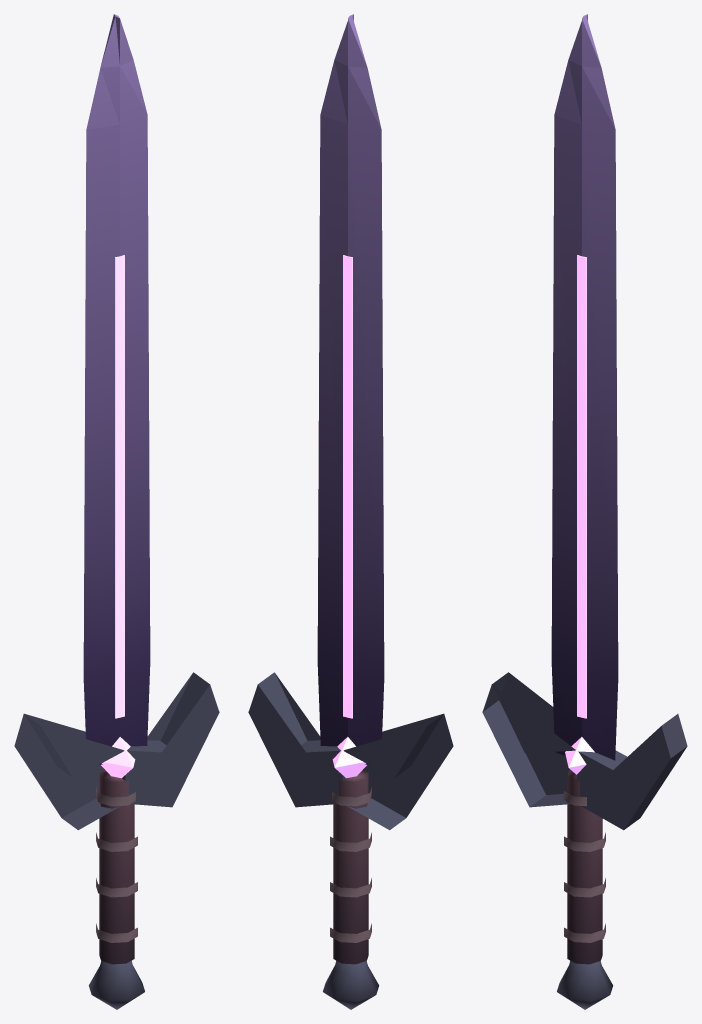
The model's file is sword_shadow.glb.
3 renders of one model, left to right at view 1: azimuth 30°, elevation 25°; view 2: azimuth 150°, elevation 25°; view 3: azimuth 330°, elevation 25°, orthographic.
Parts seen in each view (by area): view 1: sword_shadow; view 2: sword_shadow; view 3: sword_shadow.
Boxes of the visible parts, x1,y1,x2,y2 form: sword_shadow: (14,14,219,1009); sword_shadow: (248,14,453,1009); sword_shadow: (482,14,687,1009).
Bounding box in the file's own units: 0.26 × 1.31 × 0.0784.
